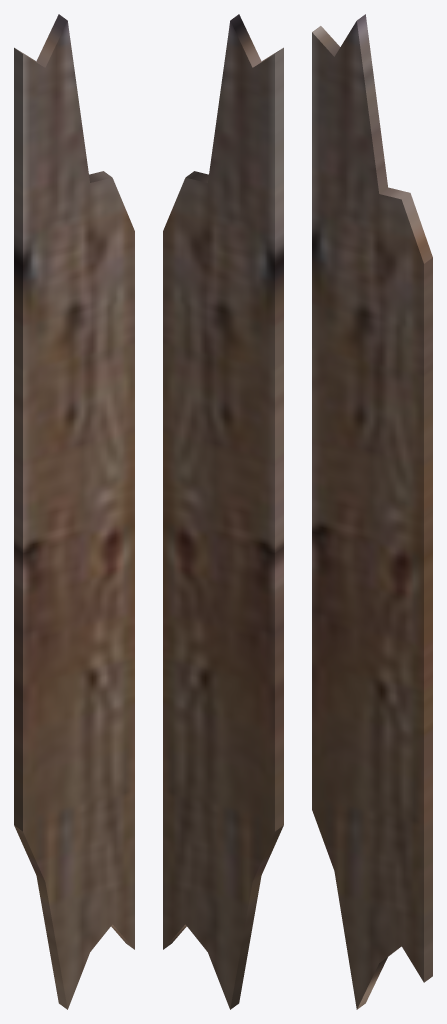
The model's file is mokuzai_5.fbx.
3 renders of one model, left to right at view 1: azimuth 30°, elevation 25°; view 2: azimuth 150°, elevation 25°; view 3: azimuth 330°, elevation 25°, orthographic.
Parts seen in each view (by area): view 1: pCube7; view 2: pCube7; view 3: pCube7.
Part boxes in pixels (x1=…): pCube7: x1=14, y1=14, x2=134, y2=1009; pCube7: x1=163, y1=14, x2=283, y2=1009; pCube7: x1=312, y1=14, x2=432, y2=1009.
Bounding box in the file's own units: 1.49 × 12.59 × 0.2064.
